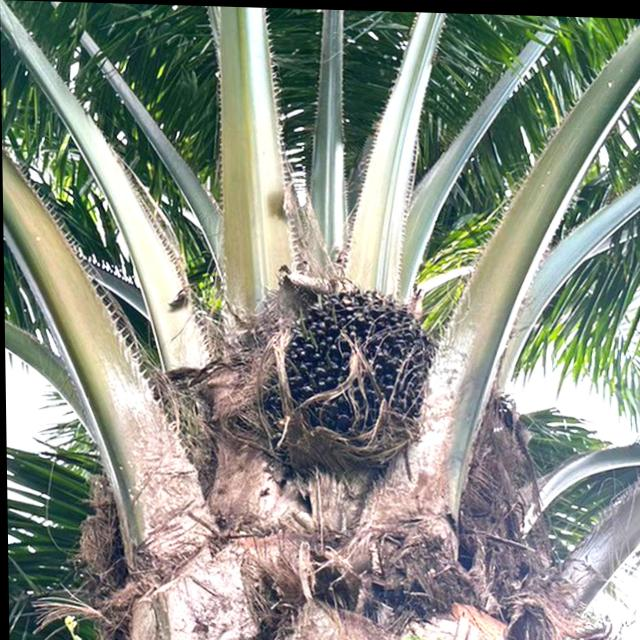unripe: (256, 275, 440, 477)
